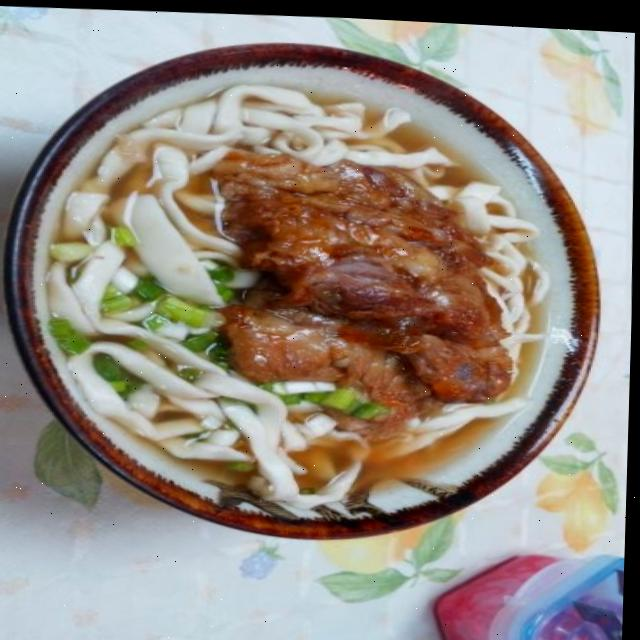汤锅炖物: (101, 6, 483, 575)
